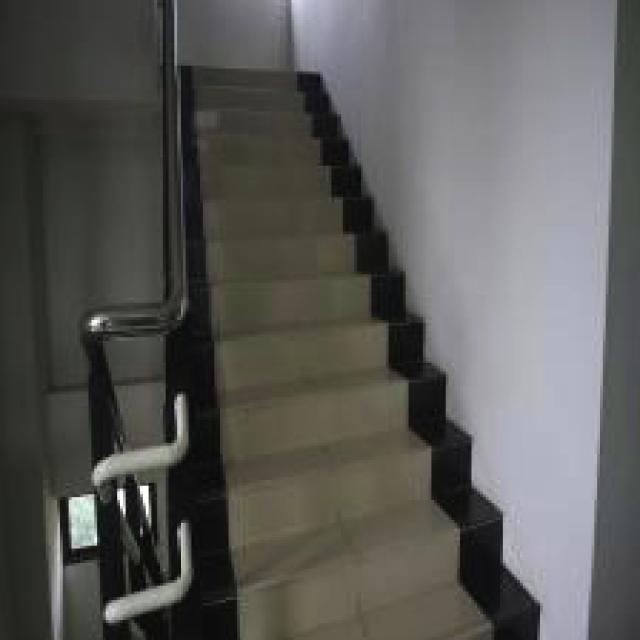upstair: (178, 86, 426, 640)
